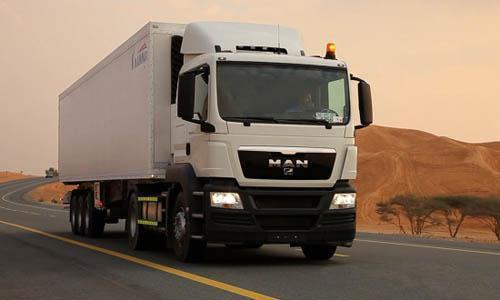truck: (44, 18, 368, 259)
